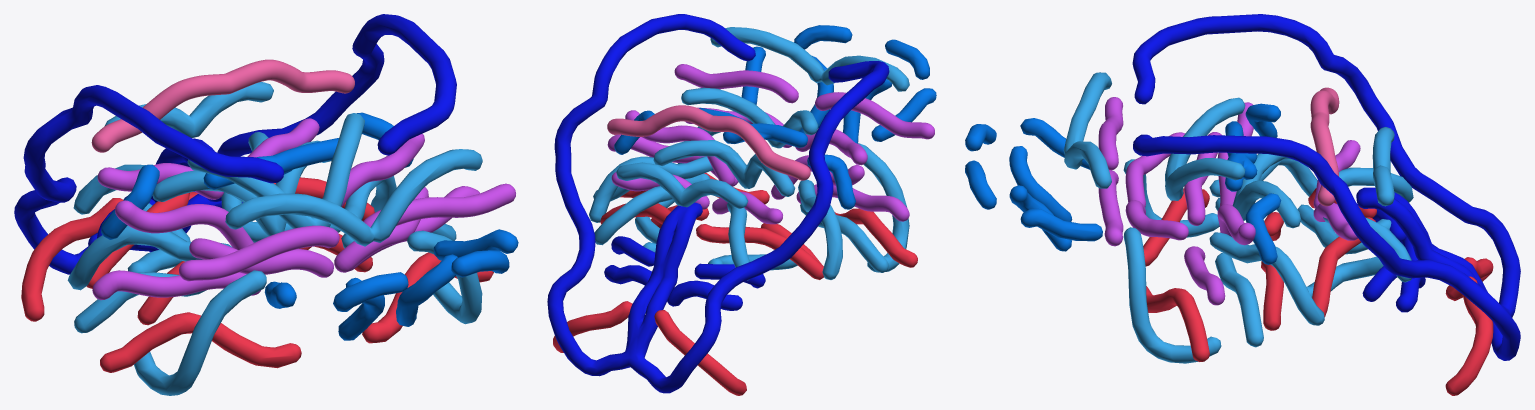
The model's file is roof.glb.
The picture shows the model from 3 angles, left to right: view 1: azimuth 30°, elevation 25°; view 2: azimuth 150°, elevation 25°; view 3: azimuth 270°, elevation 25°; orthographic projection. The views are drawn at different scales.
Parts seen in each view (by area): view 1: Retopo_Layer_17; view 2: Retopo_Layer_17; view 3: Retopo_Layer_17.
Part boxes in pixels (box(x1,y1,x2,y2)): Retopo_Layer_17: box(14, 14, 518, 395); Retopo_Layer_17: box(547, 14, 936, 395); Retopo_Layer_17: box(965, 14, 1520, 395).
Bounding box in the file's own units: 3.19 × 2.48 × 4.59.
